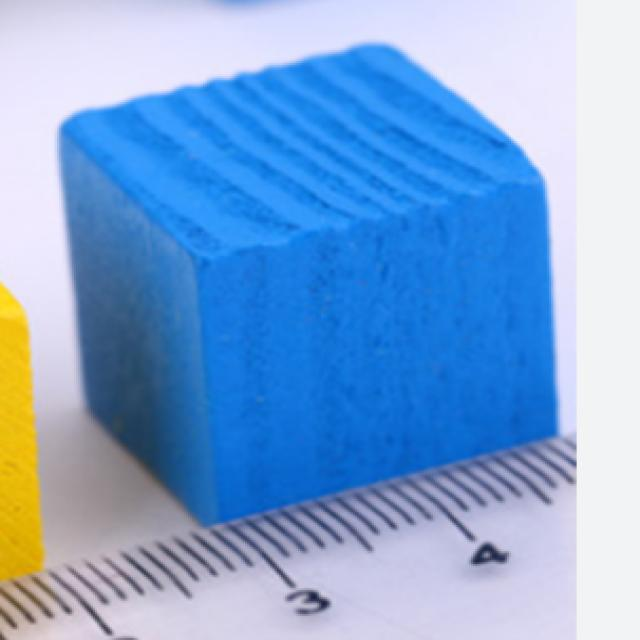bluecube: (54, 38, 561, 528)
